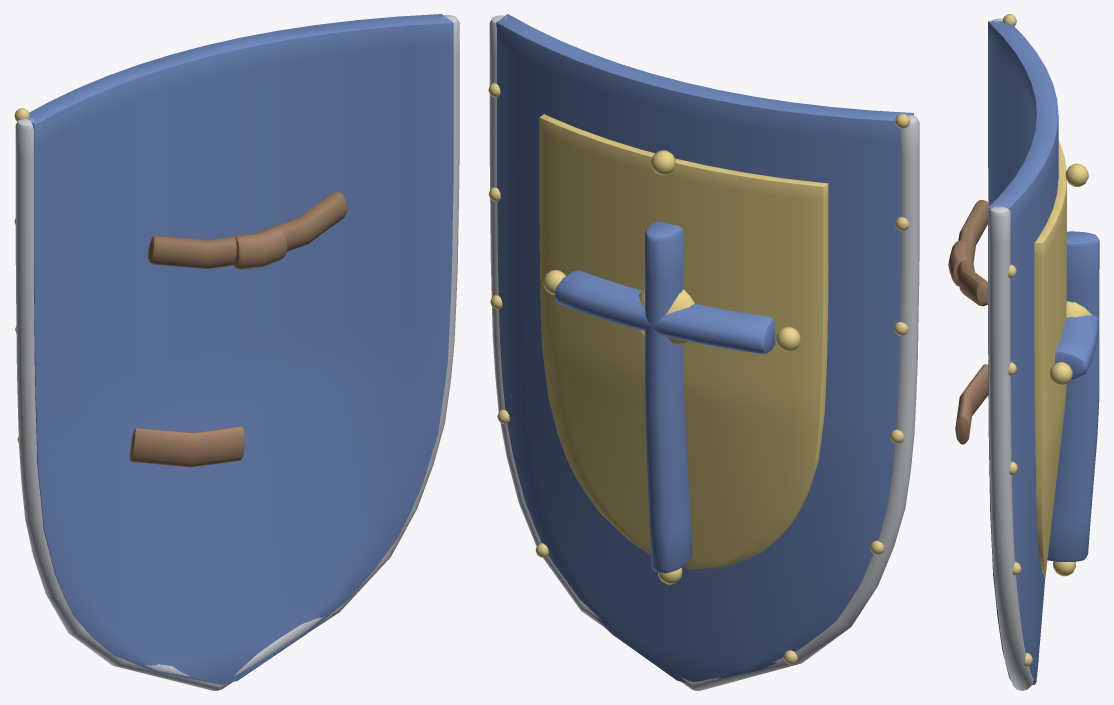
The model's file is th31_schild_wappen.glb.
3 views of the same model, side by side, from view 1: azimuth 30°, elevation 25°; view 2: azimuth 150°, elevation 25°; view 3: azimuth 270°, elevation 25° (orthographic). The views are drawn at different scales.
Visible parts, largest first — view 1: Schale, Rohr, Rohr.003, Rohr.005, Rohr.004; view 2: Schale, Schale.001, Rohr, Rohr.001, Rohr.002; view 3: Schale, Rohr, Rohr.001, Schale.001, Rohr.003, Rohr.002, Rohr.005, Rohr.004, Sphere.012, Sphere.014, Dreh, Sphere.011.
Part boxes in pixels (box(x1,y1,x2,y2)): Schale: box(27, 14, 453, 684); Rohr: box(15, 15, 459, 690); Rohr.003: box(148, 191, 347, 268); Rohr.005: box(129, 426, 244, 467); Rohr.004: box(233, 227, 286, 269); Schale: box(496, 14, 913, 682); Schale.001: box(539, 114, 828, 569); Rohr: box(489, 15, 919, 690); Rohr.001: box(645, 221, 692, 573); Rohr.002: box(555, 270, 775, 354); Schale: box(988, 21, 1058, 684); Rohr: box(988, 18, 1037, 690); Rohr.001: box(1047, 231, 1099, 561); Schale.001: box(1034, 140, 1066, 576); Rohr.003: box(956, 200, 989, 306); Rohr.002: box(1055, 315, 1099, 379); Rohr.005: box(955, 364, 988, 444); Rohr.004: box(948, 240, 967, 286); Sphere.012: box(1065, 163, 1088, 186); Sphere.014: box(1050, 362, 1072, 385); Dreh: box(1066, 301, 1092, 317); Sphere.011: box(1053, 561, 1075, 576).
Bounding box in the file's own units: 0.55 × 0.7601 × 0.1799.
